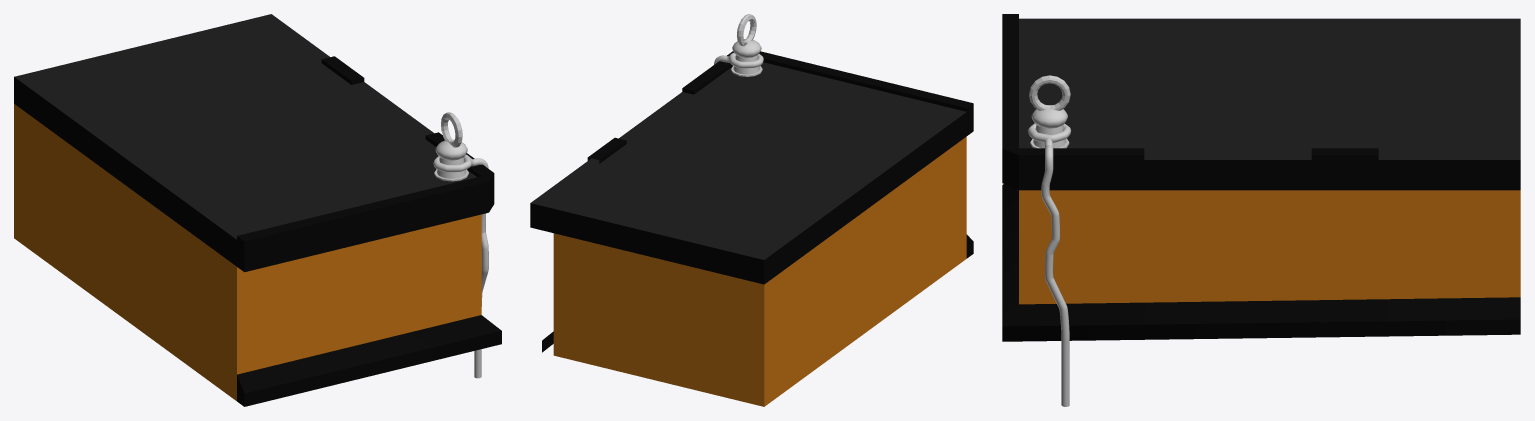
The model's file is platform6.fbx.
3 renders of one model, left to right at view 1: azimuth 30°, elevation 25°; view 2: azimuth 150°, elevation 25°; view 3: azimuth 270°, elevation 25°, orthographic. The views are drawn at different scales.
Parts seen in each view (by area): view 1: Cube.064, Cube.001, Cube.065, Cube.004, mooring post rope, mooring post, Torus; view 2: Cube.064, Cube.001, Cube.065, mooring post, Torus, mooring post rope; view 3: Cube.001, Cube.064, Cube.004, Cube.065, mooring post rope, mooring post, Torus.
Part boxes in pixels (<box>): Cube.064: <box>14,104,481,400</box>; Cube.001: <box>14,14,476,239</box>; Cube.065: <box>14,56,494,272</box>; Cube.004: <box>237,315,501,406</box>; mooring post rope: <box>433,154,488,378</box>; mooring post: <box>434,139,468,181</box>; Torus: <box>441,112,462,147</box>; Cube.064: <box>553,137,966,406</box>; Cube.001: <box>531,62,966,259</box>; Cube.065: <box>530,51,973,284</box>; mooring post: <box>731,39,762,76</box>; Torus: <box>737,14,756,46</box>; mooring post rope: <box>714,53,763,68</box>; Cube.001: <box>1019,18,1520,159</box>; Cube.064: <box>1019,190,1520,304</box>; Cube.004: <box>1002,184,1520,341</box>; Cube.065: <box>1002,14,1520,190</box>; mooring post rope: <box>1028,123,1070,406</box>; mooring post: <box>1030,105,1069,148</box>; Torus: <box>1029,75,1070,110</box>.
Bounding box in the file's own units: 412 × 411 × 620.
